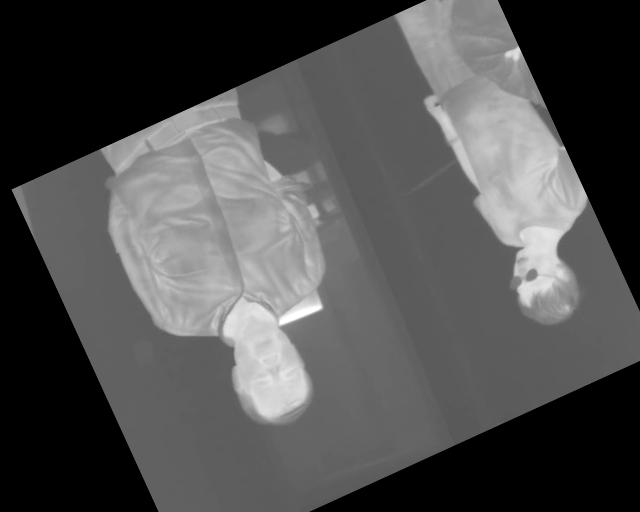face: (211, 308, 327, 440), (497, 231, 592, 338)
